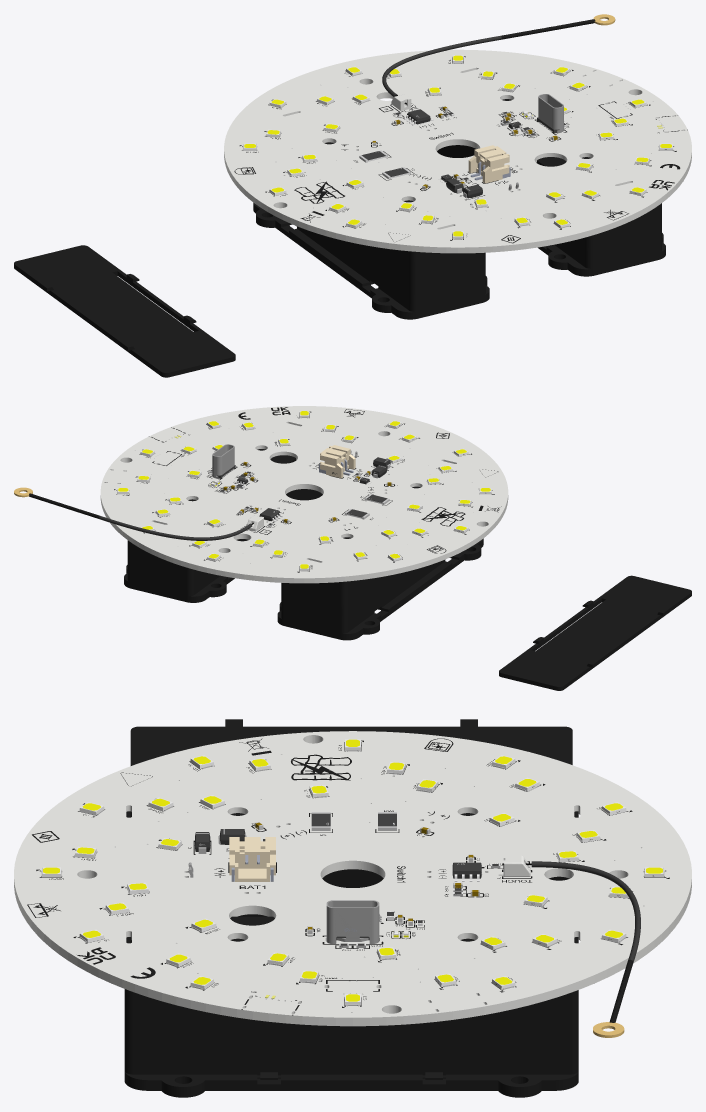
3 views of the same model, one above another, from view 1: azimuth 30°, elevation 25°; view 2: azimuth 150°, elevation 25°; view 3: azimuth 270°, elevation 25° (orthographic). The views are drawn at different scales.
Parts seen in each view (by area): view 1: Node7, Node8, Node5, Node20, Node6, Node11, Node1, Node13, Node27, Node3, Node4; view 2: Node7, Node8, Node5, Node20, Node6, Node11, Node1, Node27, Node13, Node3, Node4; view 3: Node7, Node8, Node5, Node20, Node13, Node1, Node11, Node6, Node4, Node27, Node3, Node17.
Boxes of the visible parts, box(x1,y1,x2,y2) form: Node7: box(224, 49, 691, 253); Node8: box(14, 19, 665, 377); Node5: box(243, 55, 672, 239); Node20: box(244, 55, 671, 236); Node6: box(361, 72, 666, 222); Node11: box(468, 145, 509, 183); Node1: box(234, 99, 520, 243); Node13: box(538, 94, 563, 133); Node27: box(382, 35, 501, 96); Node3: box(344, 70, 628, 229); Node4: box(448, 56, 687, 197); Node7: box(100, 406, 508, 583); Node8: box(29, 449, 691, 690); Node5: box(117, 411, 491, 570); Node20: box(118, 411, 490, 568); Node6: box(211, 425, 485, 556); Node11: box(320, 445, 355, 478); Node1: box(270, 432, 501, 572); Node27: box(99, 516, 252, 540); Node13: box(212, 444, 234, 478); Node3: box(189, 409, 419, 561); Node4: box(114, 407, 370, 578); Node7: box(14, 731, 691, 1026); Node8: box(124, 719, 633, 1097); Node5: box(42, 739, 663, 1005); Node20: box(43, 739, 662, 1001); Node13: box(326, 900, 379, 943); Node1: box(32, 738, 632, 854); Node11: box(229, 837, 275, 881); Node6: box(195, 745, 653, 1000); Node4: box(73, 924, 627, 1015); Node27: box(531, 861, 640, 962); Node3: box(27, 847, 669, 927); Node17: box(41, 750, 664, 1006).
Bounding box in the file's own units: 0.1753 × 0.0294 × 0.1149.
